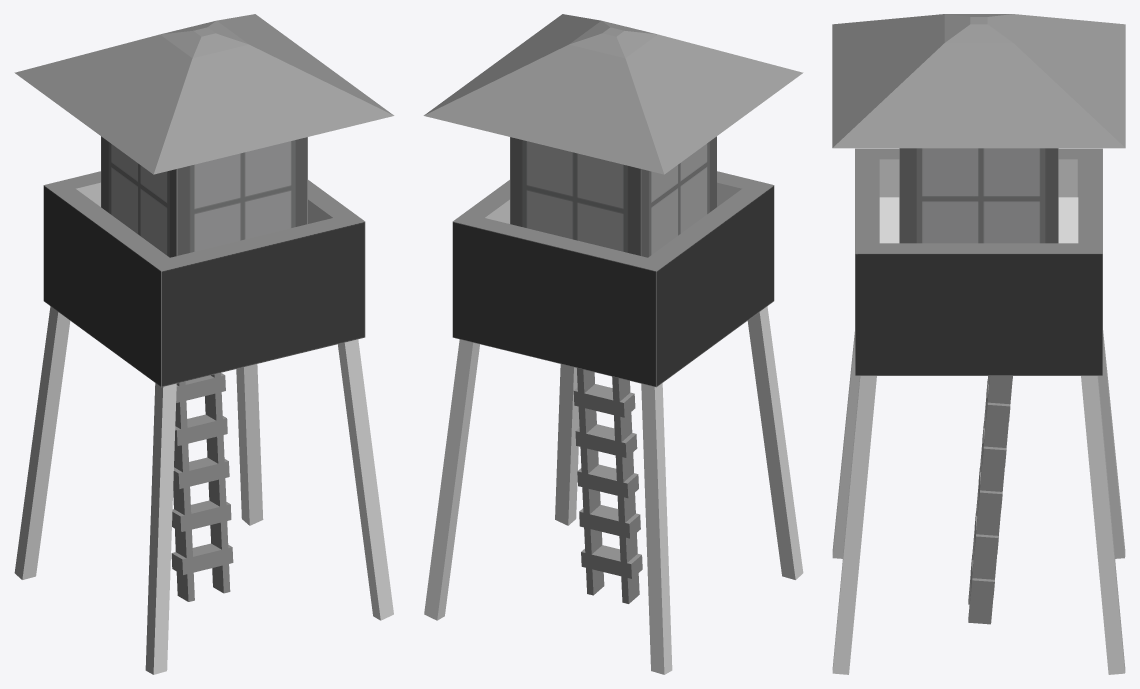
The model's file is GuardPoint_01.fbx.
The picture shows the model from 3 angles, left to right: view 1: azimuth 30°, elevation 25°; view 2: azimuth 150°, elevation 25°; view 3: azimuth 270°, elevation 25°; orthographic projection. The views are drawn at different scales.
Visible parts, largest first — view 1: GuardPoint_01_Body; view 2: GuardPoint_01_Body; view 3: GuardPoint_01_Body.
Part boxes in pixels (<box>): GuardPoint_01_Body: <box>14,14,394,674</box>; GuardPoint_01_Body: <box>423,14,803,674</box>; GuardPoint_01_Body: <box>832,14,1125,674</box>.
Size of the model in its own units: 14.18 by 31.77 by 14.18.
